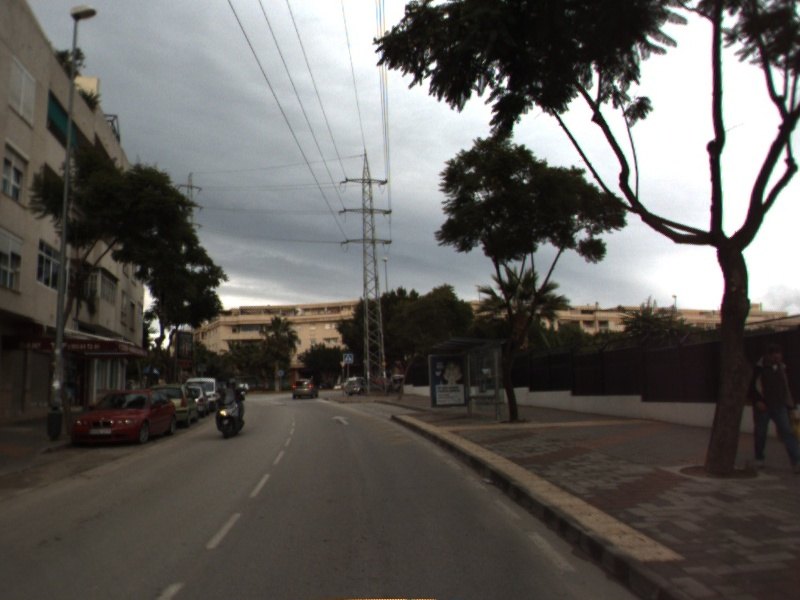STRAIGHT: (329, 413, 352, 427)
